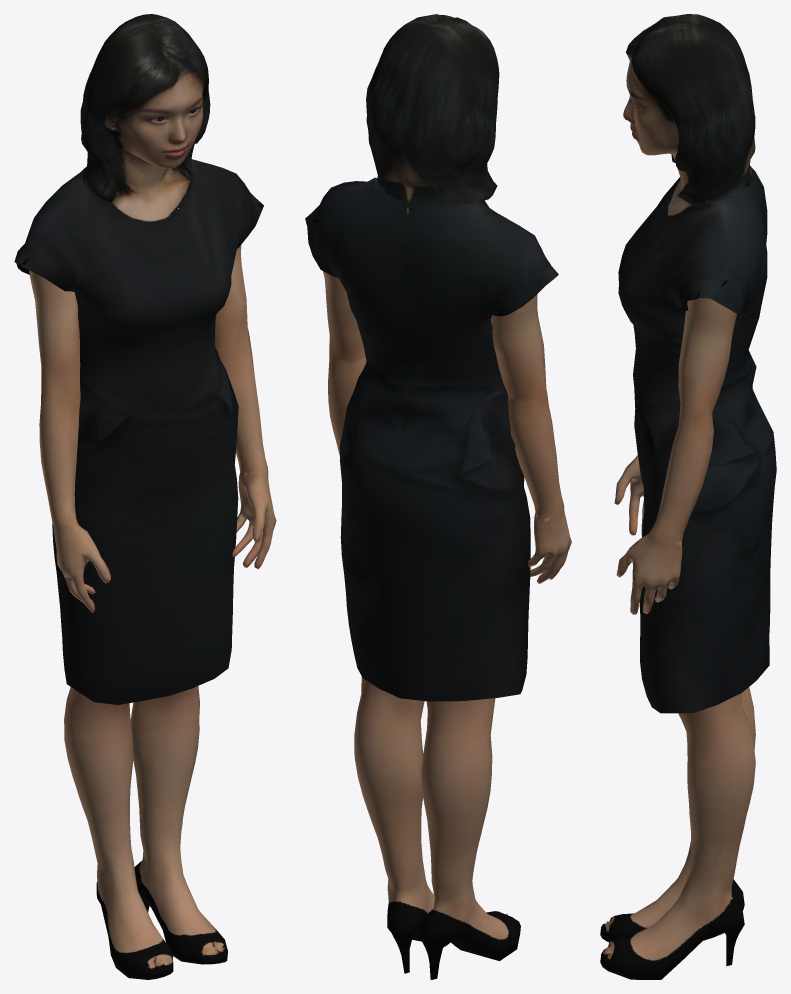
Rendered from housewife.glb.
3 renders of one model, left to right at view 1: azimuth 30°, elevation 25°; view 2: azimuth 150°, elevation 25°; view 3: azimuth 270°, elevation 25°, orthographic.
Visible parts, largest first — view 1: Object_2, Object_3; view 2: Object_2, Object_3; view 3: Object_3, Object_2.
Boxes of the visible parts, x1,y1,x2,y2 form: Object_2: [14, 159, 263, 704]; Object_3: [29, 14, 276, 979]; Object_2: [305, 177, 558, 701]; Object_3: [323, 14, 571, 979]; Object_3: [600, 14, 755, 979]; Object_2: [618, 166, 776, 713].
Size of the model in its own units: 19.29 by 69.54 by 11.85.
Materials: 2 (2 with a texture image).
